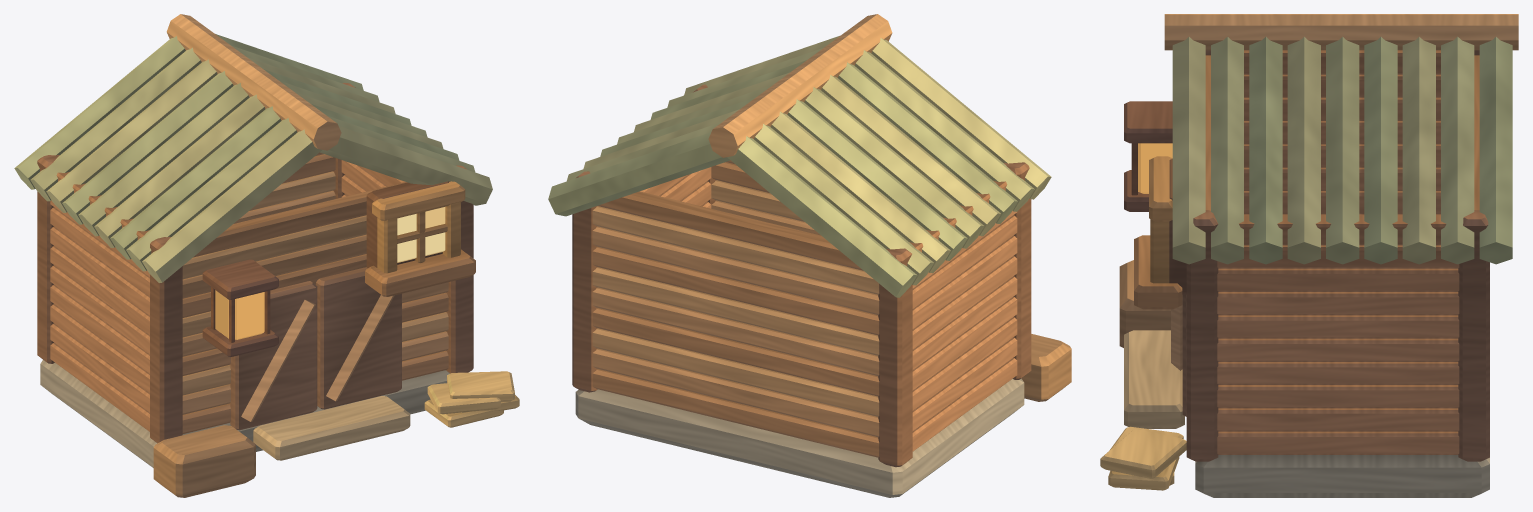
File: farm_coop.glb
The picture shows the model from 3 angles, left to right: view 1: azimuth 30°, elevation 25°; view 2: azimuth 150°, elevation 25°; view 3: azimuth 270°, elevation 25°; orthographic projection. The views are drawn at different scales.
Visible parts, largest first — view 1: Hühnerstall; view 2: Hühnerstall; view 3: Hühnerstall.
Part boxes in pixels (left/top/right/bottom): Hühnerstall: left=14, top=14, right=519, bottom=497; Hühnerstall: left=548, top=14, right=1071, bottom=497; Hühnerstall: left=1100, top=14, right=1518, bottom=497.
Size of the model in its own units: 2.31 by 2.08 by 1.98.
Materials: 3 (2 with a texture image).
